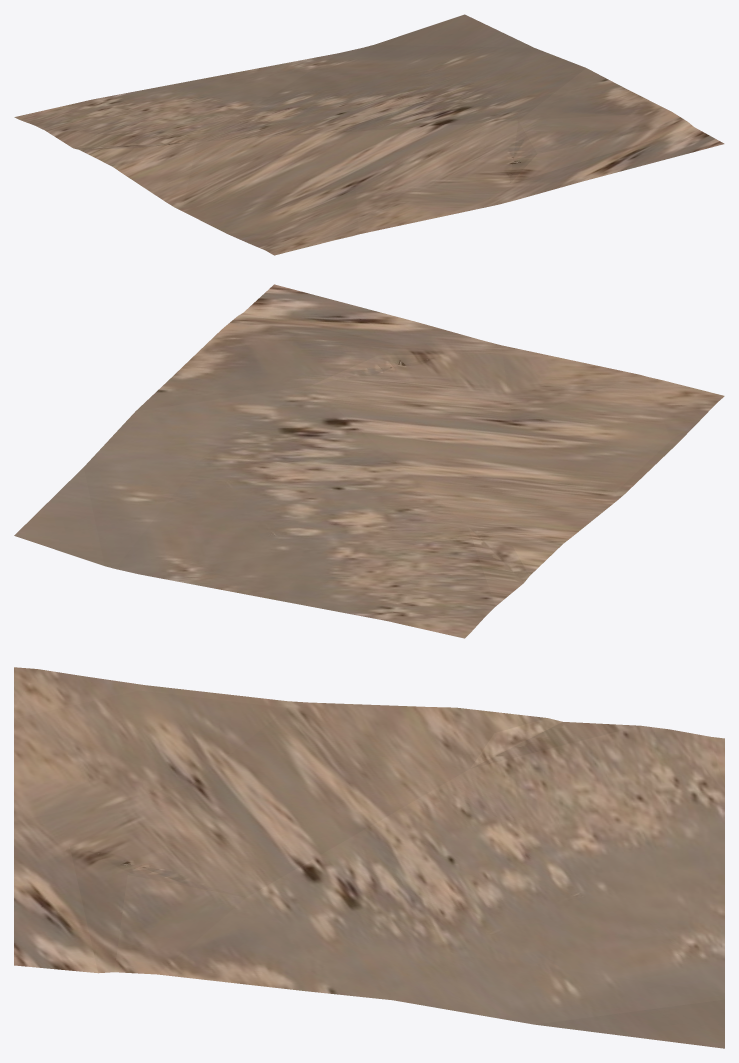
3 views of the same model, one above another, from view 1: azimuth 30°, elevation 25°; view 2: azimuth 150°, elevation 25°; view 3: azimuth 270°, elevation 25° (orthographic). The views are drawn at different scales.
Size of the model in its own units: 2.09 by 0.3075 by 2.09.
Materials: 3 (3 with a texture image).
